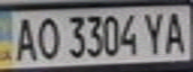0: (103, 11, 121, 57)
3: (63, 12, 87, 60), (84, 11, 106, 58)
4: (118, 10, 142, 57)
A: (9, 14, 39, 63), (160, 8, 190, 55)
O: (33, 14, 60, 61)
Y: (139, 9, 169, 55)
